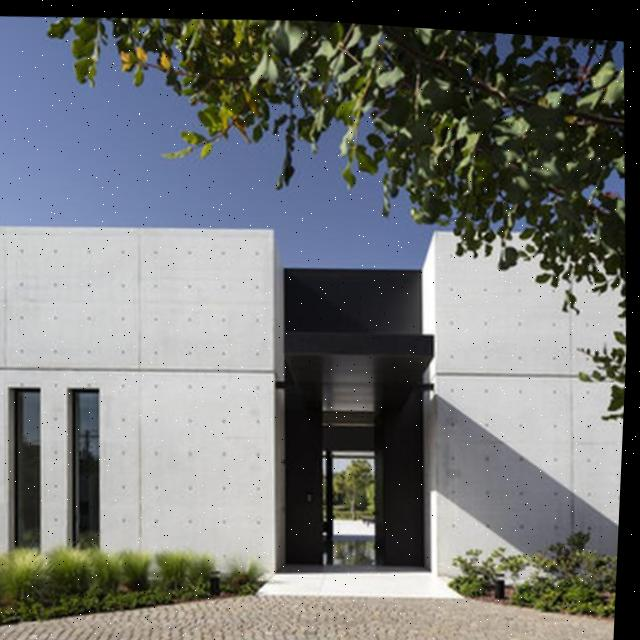building: (0, 193, 631, 620)
